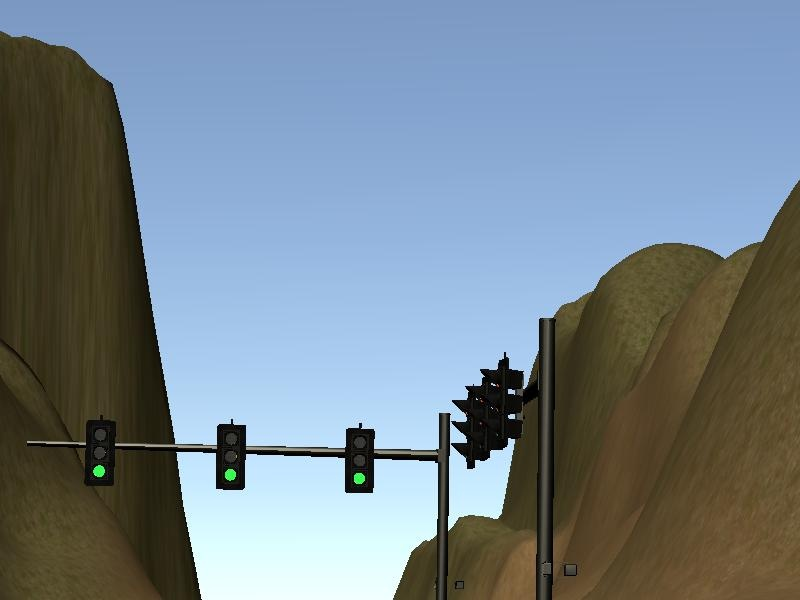green: (84, 419, 116, 485), (344, 426, 376, 492), (218, 423, 243, 489)
